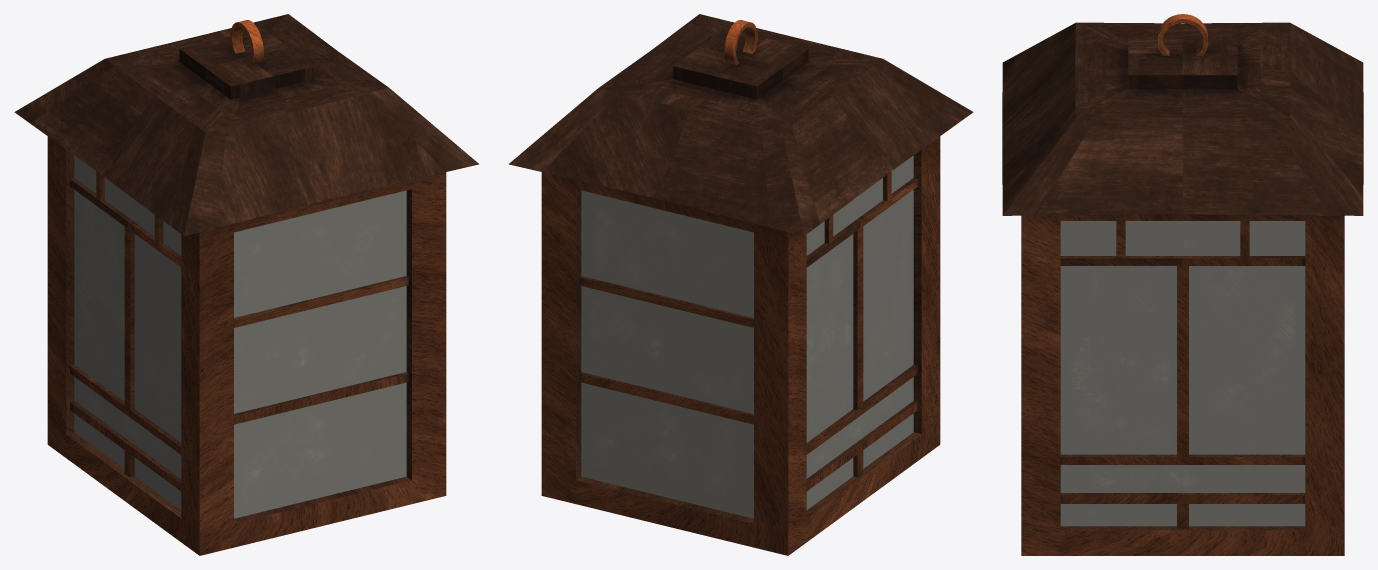
The model's file is Lantern5.fbx.
3 views of the same model, side by side, from view 1: azimuth 30°, elevation 25°; view 2: azimuth 150°, elevation 25°; view 3: azimuth 270°, elevation 25° (orthographic). The views are drawn at different scales.
Parts seen in each view (by area): view 1: Lantern, Lantern.001, Lantern.002, Loop; view 2: Lantern, Lantern.001, Lantern.002, Loop; view 3: Lantern.002, Lantern, Lantern.001, Loop.
Boxes of the visible parts, x1,y1,x2,y2 form: Lantern: (74,155,406,518); Lantern.001: (47,136,446,555); Lantern.002: (14,14,478,236); Loop: (230,20,263,65); Lantern: (581,155,913,518); Lantern.001: (541,136,940,555); Lantern.002: (509,14,973,236); Loop: (724,20,757,65); Lantern.002: (1002,22,1363,215); Lantern: (1060,221,1305,526); Lantern.001: (1021,214,1344,555); Loop: (1158,14,1207,55).
Bounding box in the file's own units: 183 × 263 × 181.
